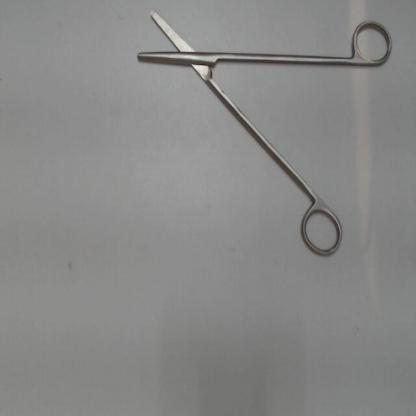9 Metzenbaum Scissors: (132, 4, 404, 264)
